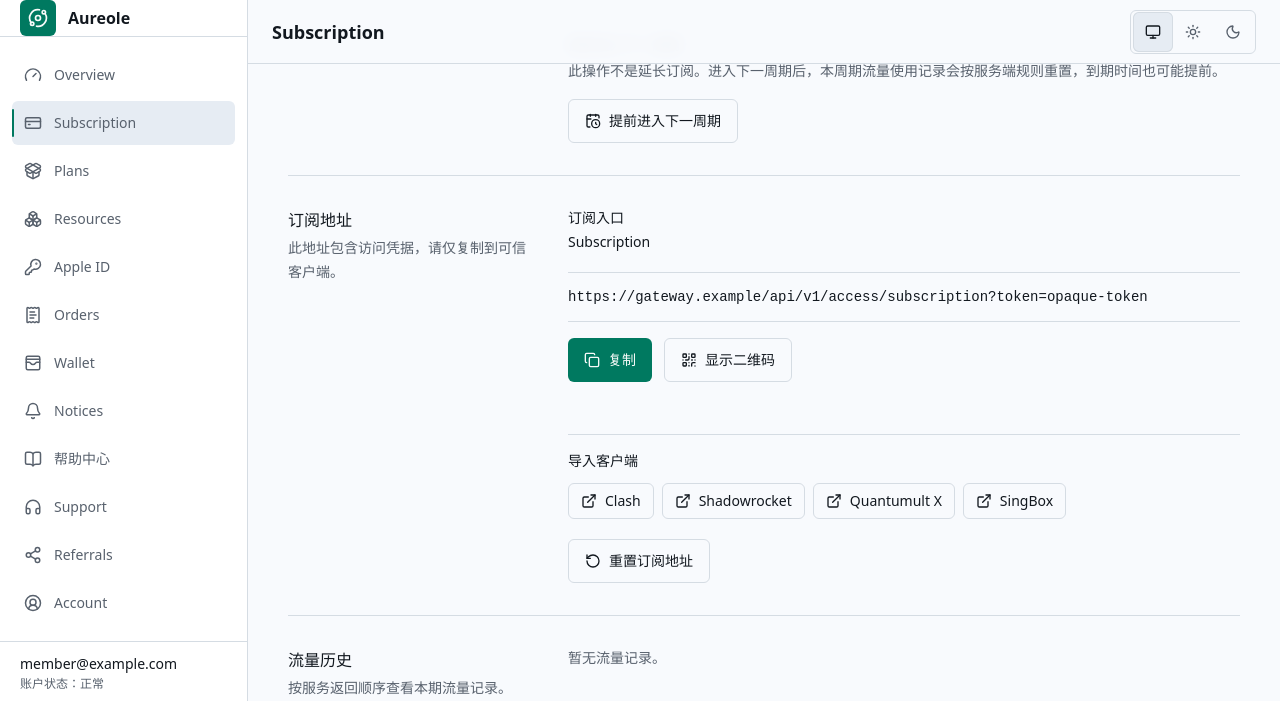
Test case: Subscription page › copies the exact credential while feedback never includes it
(page scrolled)
What coordinates should you click on to do the following:
click the button "复制"
I would click on:
 (610, 360)
Its box is [568, 338, 652, 382].
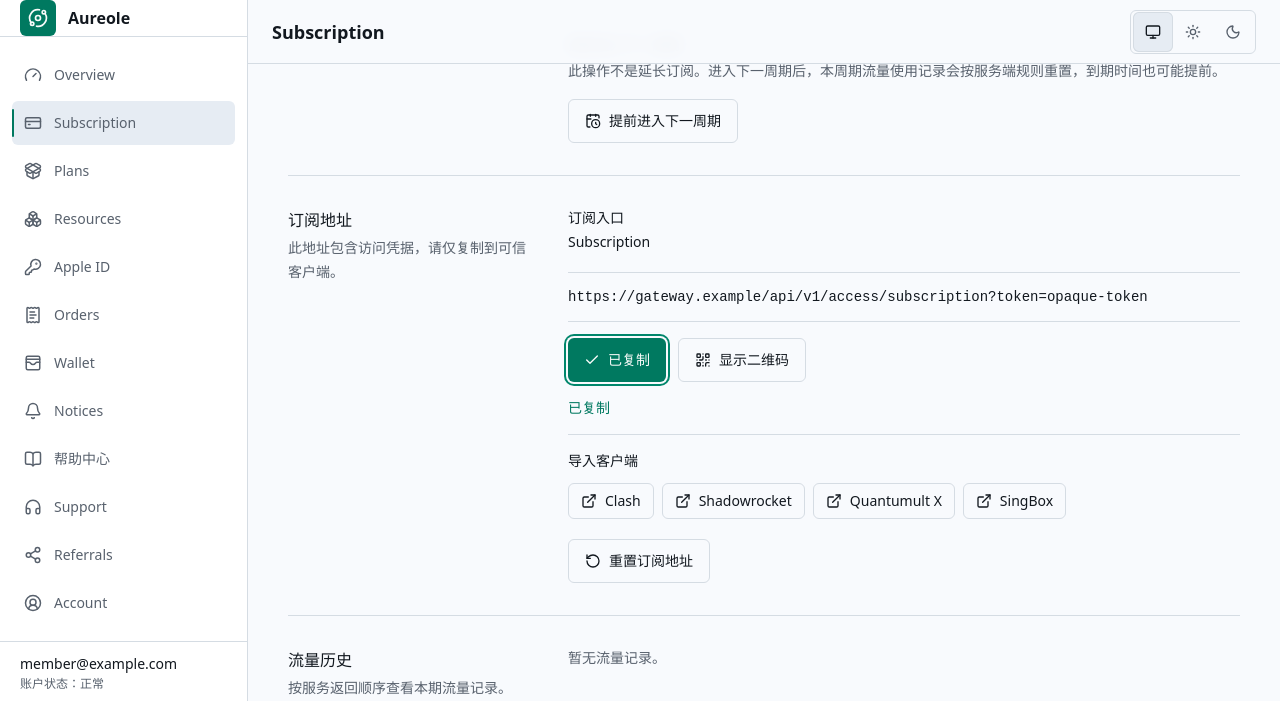
Check: the number of buttons "已复制" is 2, box [568, 338, 666, 382]; [568, 398, 610, 417]
Check: the button "已复制" is shown, box [568, 338, 666, 382]
